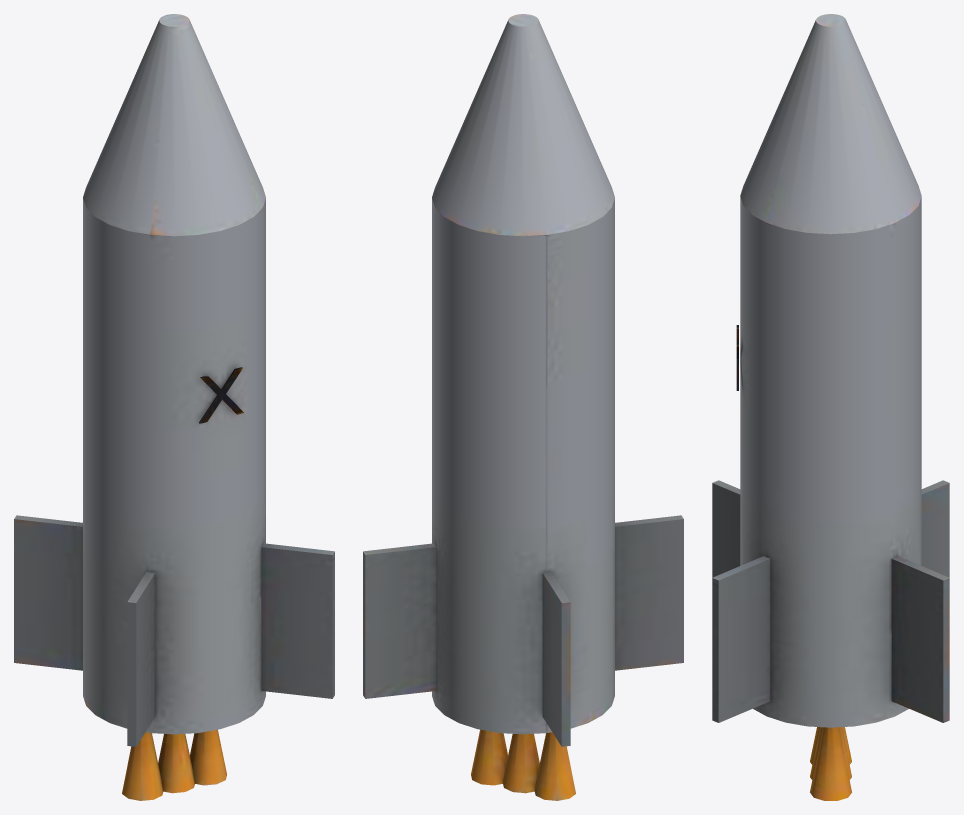
Rendered from starship.glb.
The picture shows the model from 3 angles, left to right: view 1: azimuth 30°, elevation 25°; view 2: azimuth 150°, elevation 25°; view 3: azimuth 270°, elevation 25°; orthographic projection.
Visible parts, largest first — view 1: starship; view 2: starship; view 3: starship.
Part boxes in pixels (bbox=[...]): starship: bbox=[14, 14, 334, 800]; starship: bbox=[363, 14, 683, 800]; starship: bbox=[712, 14, 949, 800].
Size of the model in its own units: 3.92 by 13.8 by 3.92.
Materials: 1 (1 with a texture image).
